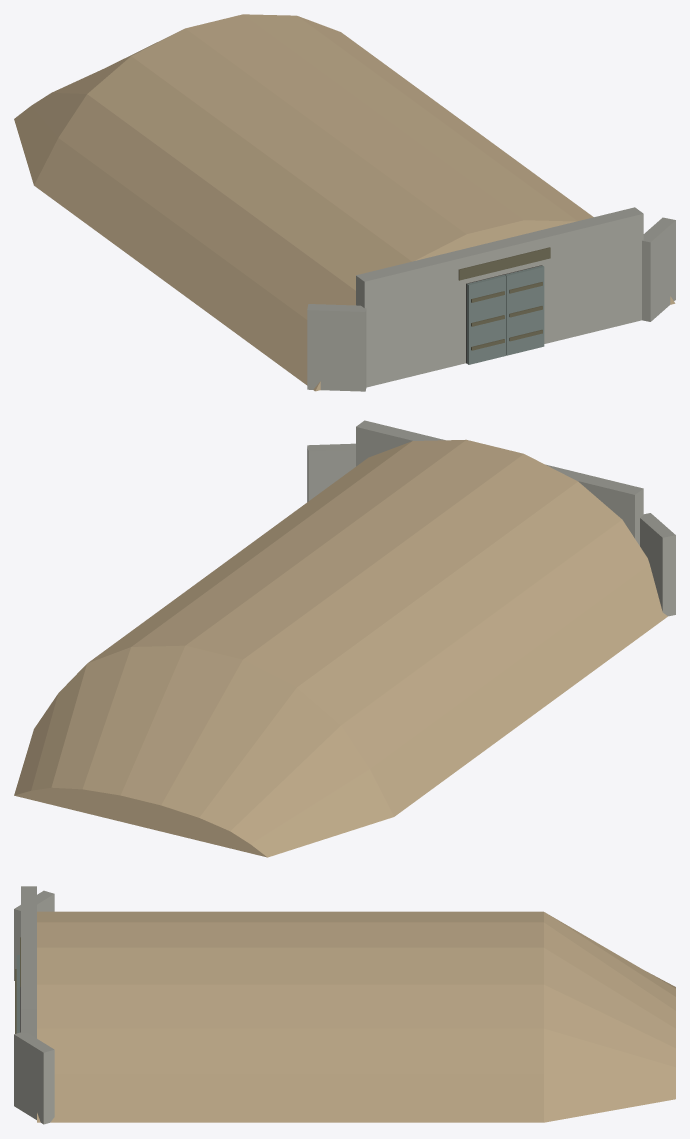
The model's file is SM_Polvorin_v1_LOD0.fbx.
The picture shows the model from 3 angles, top to bottom: view 1: azimuth 30°, elevation 25°; view 2: azimuth 150°, elevation 25°; view 3: azimuth 270°, elevation 25°; orthographic projection. The views are drawn at different scales.
Visible parts, largest first — view 1: SM_polvorin_v1_LOD0, Puerta_O, Puerta_E; view 2: SM_polvorin_v1_LOD0; view 3: SM_polvorin_v1_LOD0.
Part boxes in pixels (x1,y1,x2,y2): SM_polvorin_v1_LOD0: (14,14,675,391); Puerta_O: (466,274,506,364); Puerta_E: (505,265,544,355); SM_polvorin_v1_LOD0: (14,420,675,857); SM_polvorin_v1_LOD0: (14,886,675,1124).
Size of the model in its own units: 14.53 by 4.53 by 25.07.
